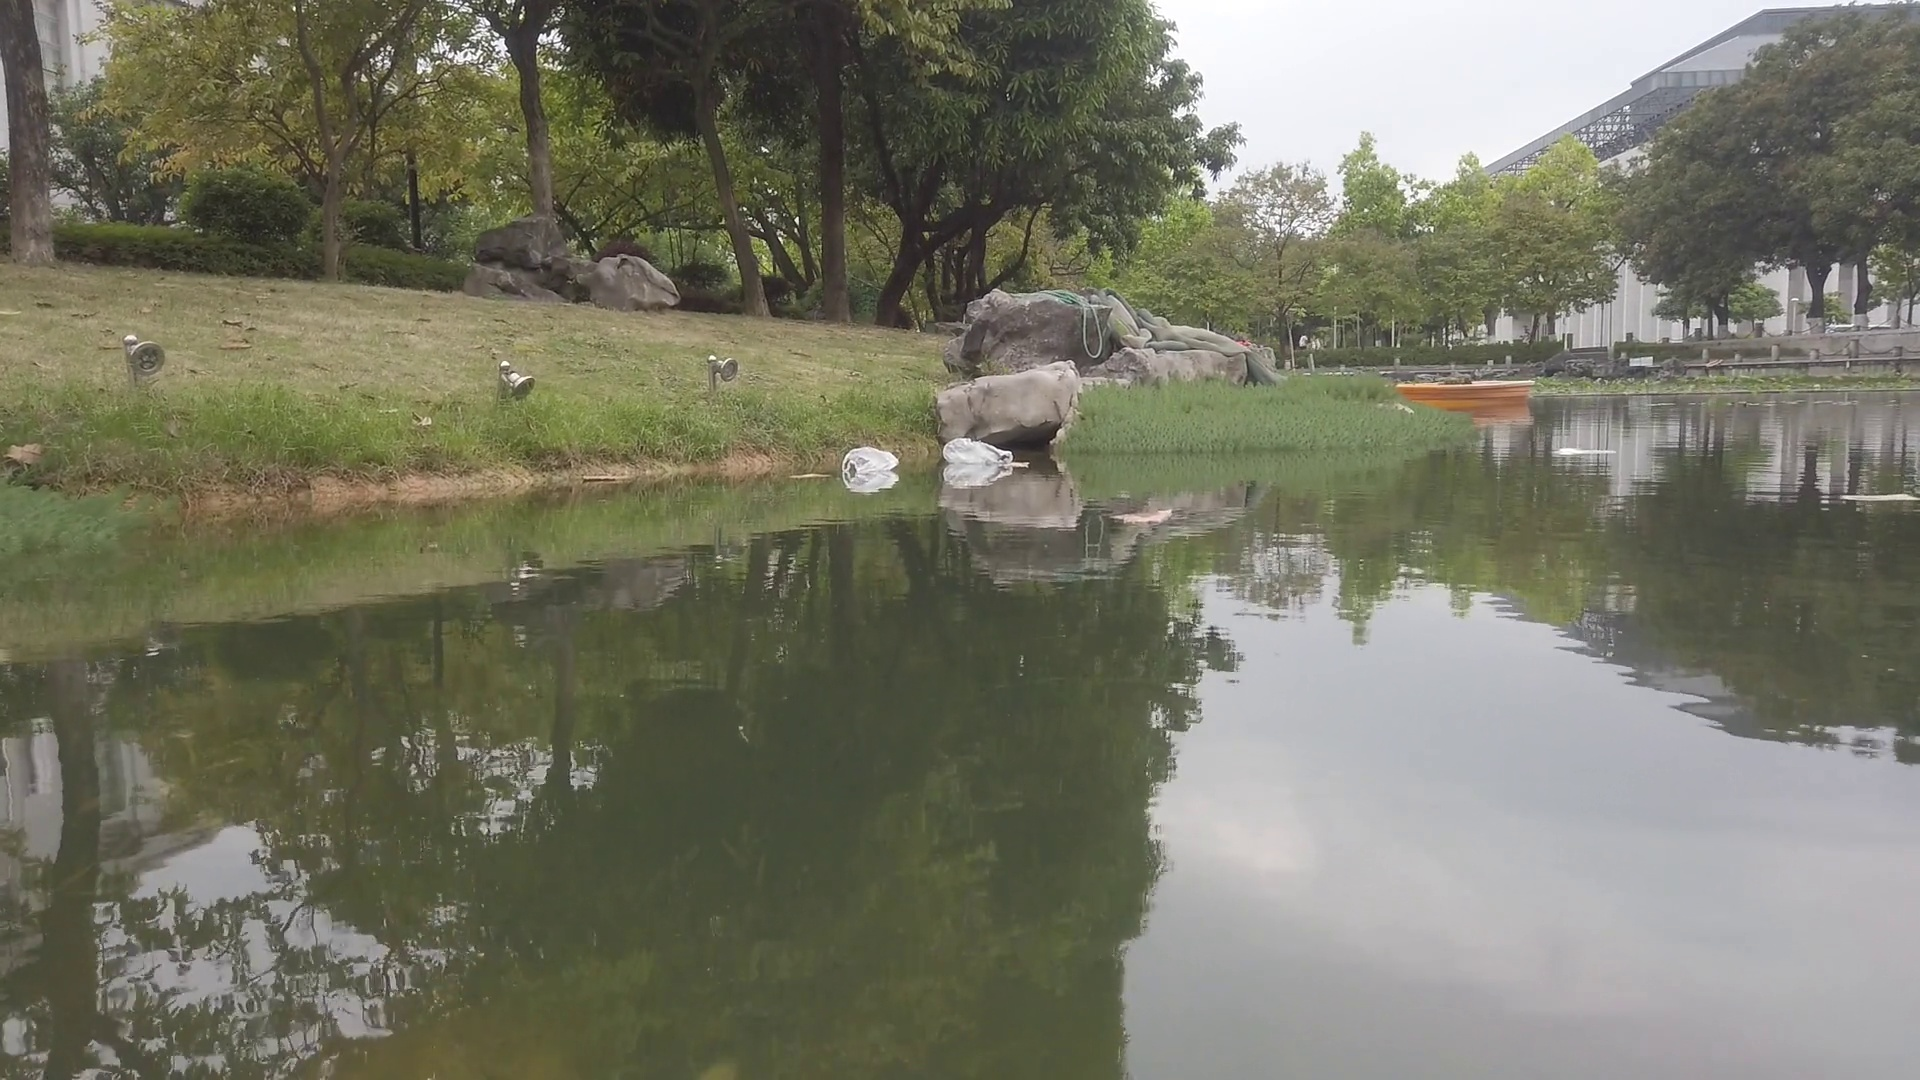paper: (1114, 508, 1170, 527), (1551, 444, 1617, 459), (1837, 491, 1915, 502), (583, 473, 632, 483), (791, 468, 828, 480), (1004, 458, 1033, 472)
plastic: (942, 436, 1015, 471), (840, 446, 898, 473)
